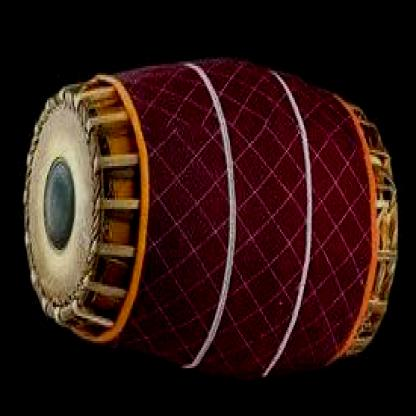Mridangam: (18, 29, 411, 395)
